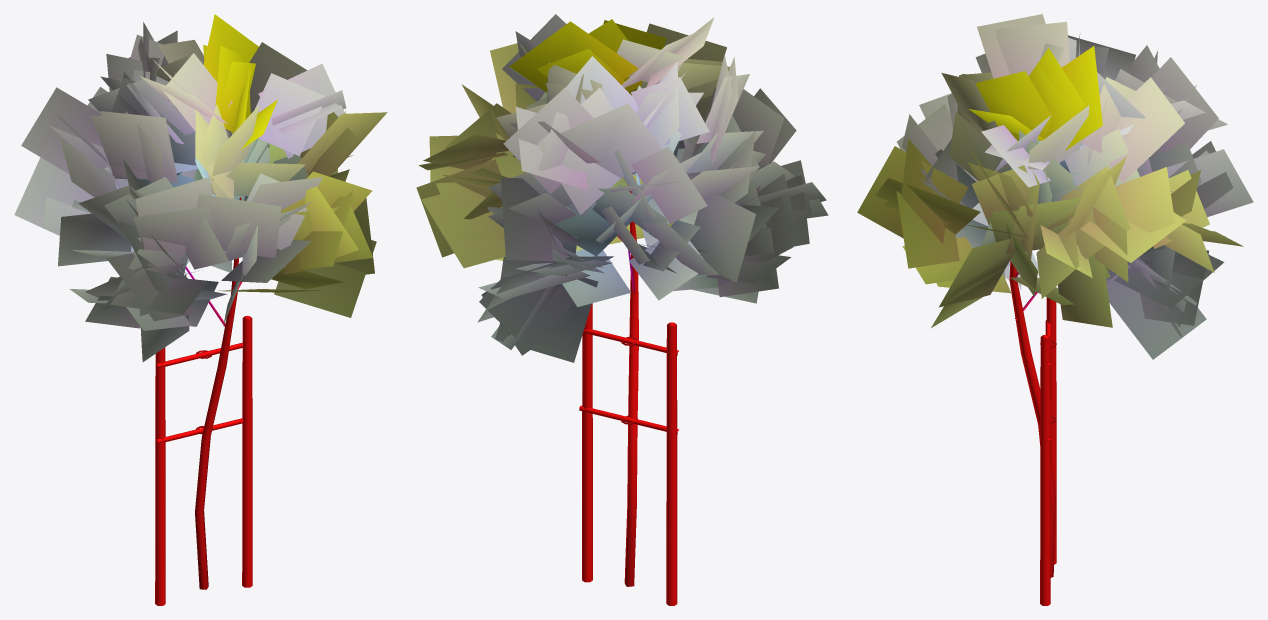
The model's file is sapling.glb.
The picture shows the model from 3 angles, left to right: view 1: azimuth 30°, elevation 25°; view 2: azimuth 150°, elevation 25°; view 3: azimuth 270°, elevation 25°; orthographic projection. The views are drawn at different scales.
Visible parts, largest first — view 1: sapling; view 2: sapling; view 3: sapling.
Boxes of the visible parts, x1,y1,x2,y2 form: sapling: (14,14,387,605); sapling: (416,14,828,605); sapling: (857,14,1253,605).
Size of the model in its own units: 2.31 by 4.05 by 2.62.
